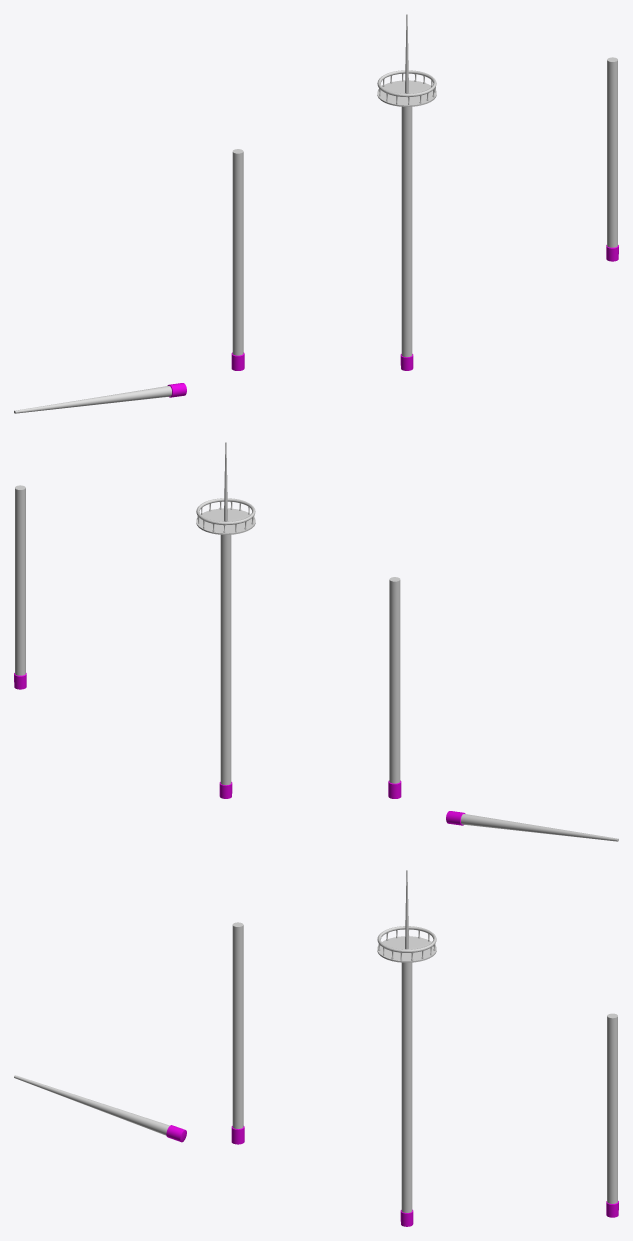
Rendered from Masts.fbx.
The picture shows the model from 3 angles, top to bottom: view 1: azimuth 30°, elevation 25°; view 2: azimuth 150°, elevation 25°; view 3: azimuth 330°, elevation 25°; orthographic projection.
Visible parts, largest first — view 1: Cylinder.032; view 2: Cylinder.032; view 3: Cylinder.032.
Part boxes in pixels (x1,y1,x2,y2): Cylinder.032: (14, 14, 618, 413); Cylinder.032: (14, 442, 618, 841); Cylinder.032: (14, 870, 618, 1226).
Bounding box in the file's own units: 5008 × 2806 × 429.
